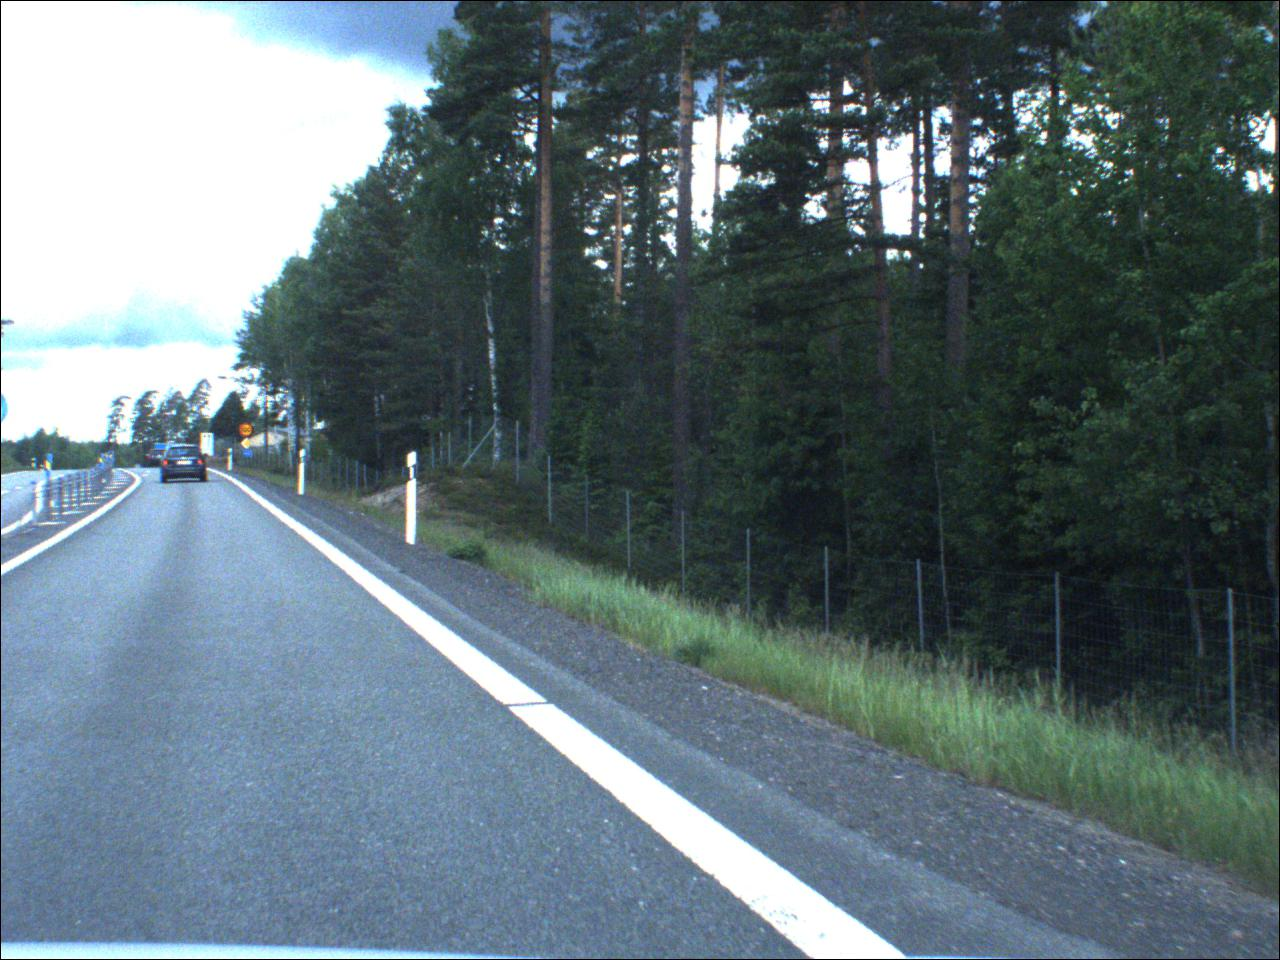100_SIGN: (241, 425, 256, 439)
PRIORITY_ROAD: (242, 438, 255, 452)
